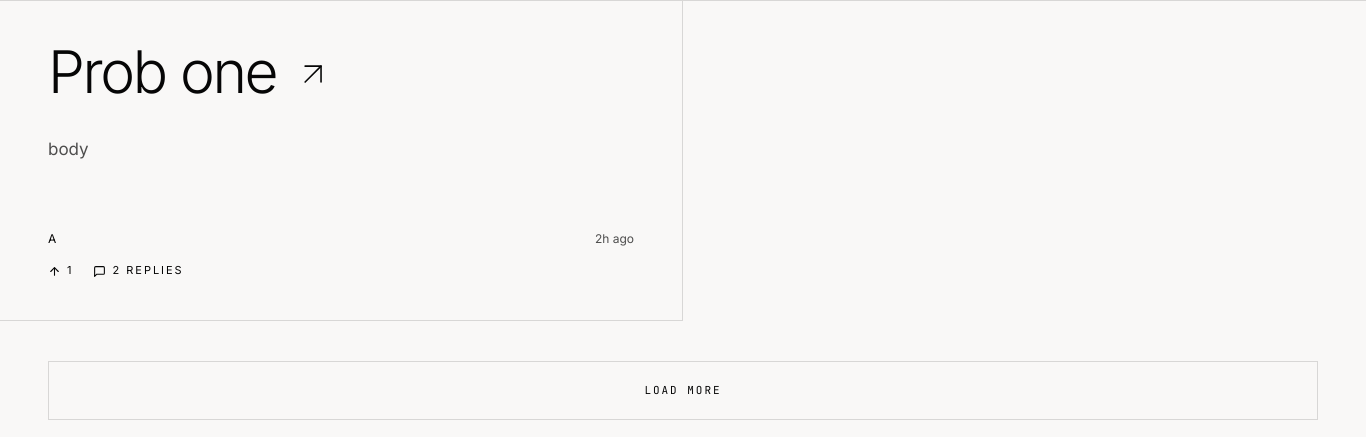
PostsList › loads more pages and appends without dropping earlier posts
The image size is (1366, 437).
Check: the link "Prob one" is shown, box [48,36,332,107]
Click the button "LOAD MORE": [683, 390] box [48,361,1318,420]
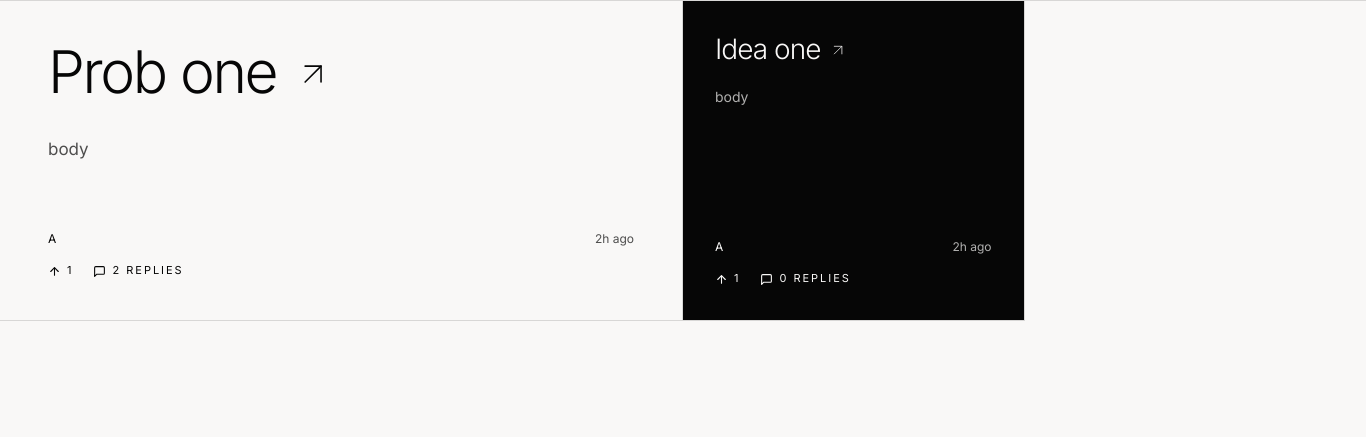
Check: the link "Prob one" is shown, box [48,36,332,107]
Check: the link "Idea one" is shown, box [715,32,847,66]
